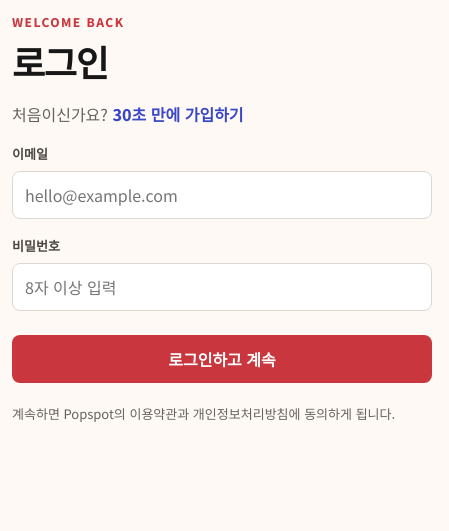
Test: auth form toggles between login and sign-up, adding the name field and 8-char password rule
Expected: the field labelled "이름" is not shown
Expected: the button "로그인하고 계속" is shown, [12, 335, 432, 383]
Click the button "30초 만에 가입하기" at (178, 114), box [112, 101, 244, 127]
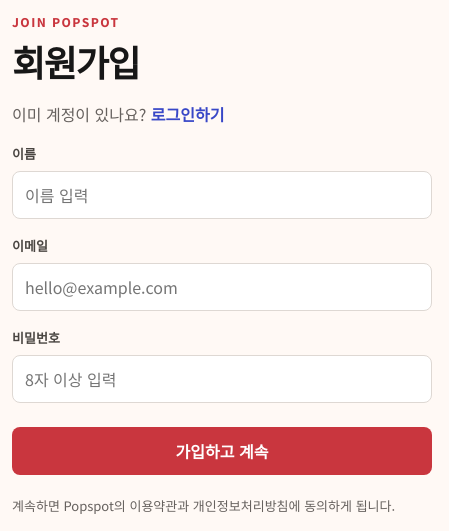
Expected: the heading "회원가입" is shown, [12, 34, 140, 86]
Expected: the button "가입하고 계속" is shown, [12, 427, 432, 475]
Click the button "로그인하기" at (188, 114), box [151, 101, 224, 127]
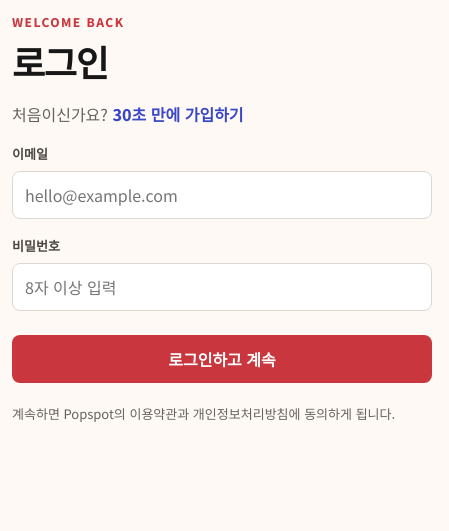
Expected: the heading "로그인" is shown, [12, 34, 108, 86]
Expected: the label labelled "이름" is gone
